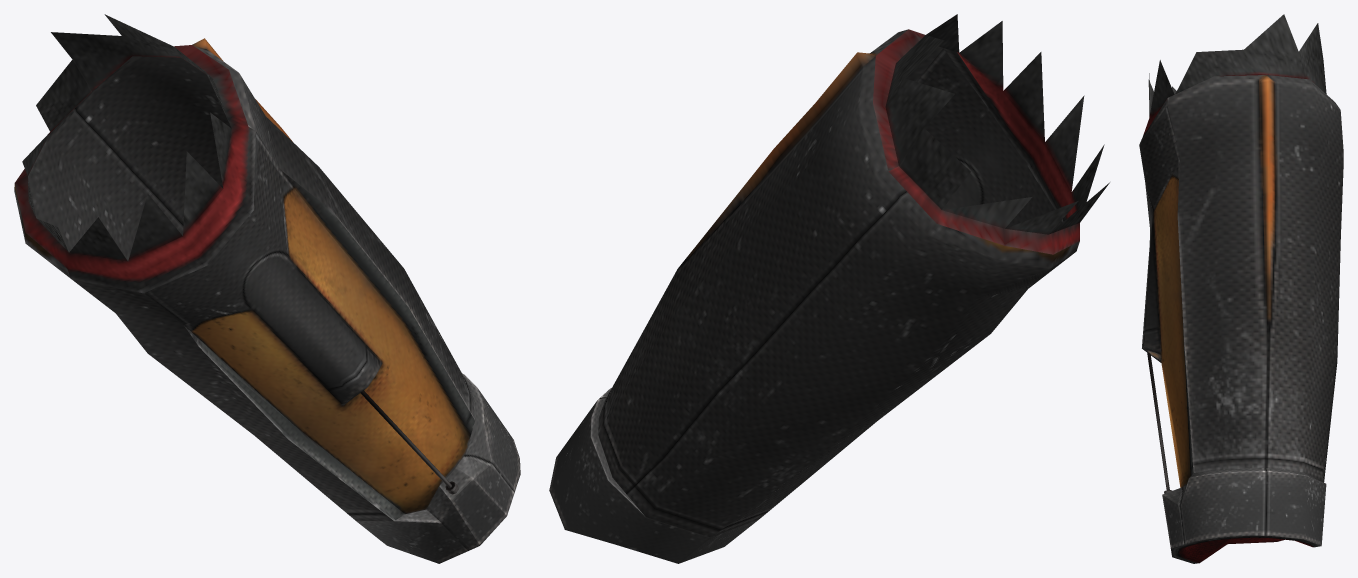
The model's file is gordon_antebrazo_izq.obj.
3 views of the same model, side by side, from view 1: azimuth 30°, elevation 25°; view 2: azimuth 150°, elevation 25°; view 3: azimuth 270°, elevation 25° (orthographic). The views are drawn at different scales.
Visible parts, largest first — view 1: gordon_antebrazo_izq; view 2: gordon_antebrazo_izq; view 3: gordon_antebrazo_izq.
Part boxes in pixels (x1,y1,x2,y2): gordon_antebrazo_izq: (14,14,520,563); gordon_antebrazo_izq: (549,14,1109,563); gordon_antebrazo_izq: (1139,14,1343,563).
Bounding box in the file's own units: 0.191 × 0.2194 × 0.0913.
